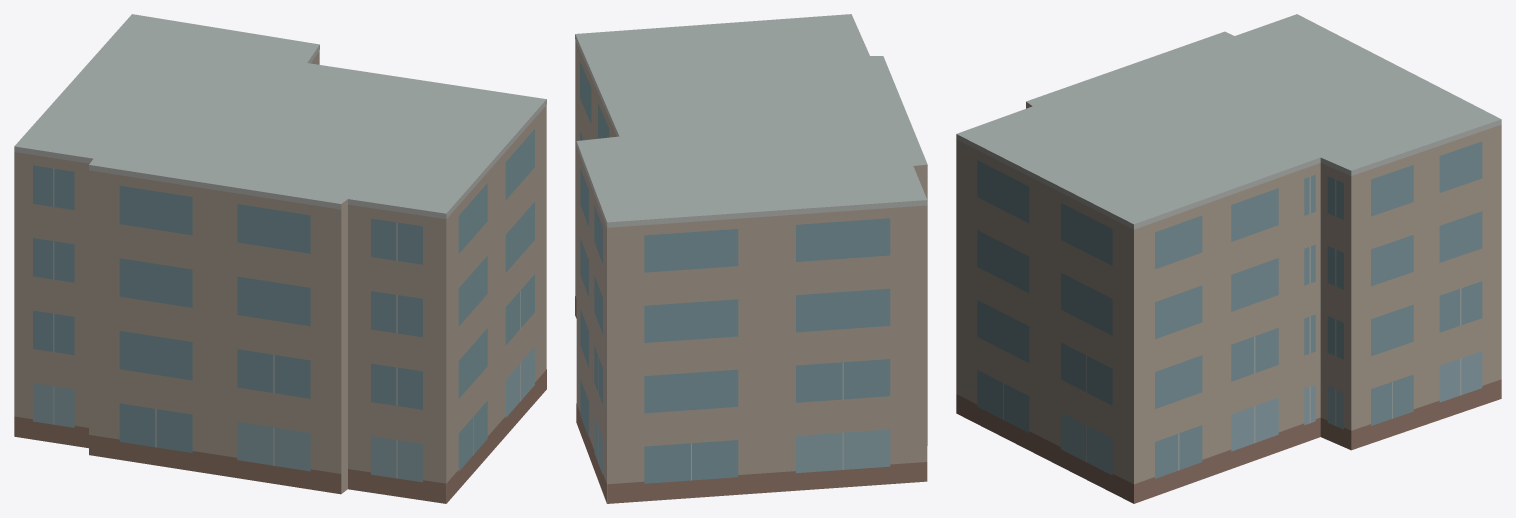
The model's file is survey-upis-32954213.glb.
3 renders of one model, left to right at view 1: azimuth 30°, elevation 25°; view 2: azimuth 150°, elevation 25°; view 3: azimuth 270°, elevation 25°, orthographic. The views are drawn at different scales.
Parts seen in each view (by area): view 1: survey-upis-32954213.tmp; view 2: survey-upis-32954213.tmp; view 3: survey-upis-32954213.tmp.
Boxes of the visible parts, x1=… form: survey-upis-32954213.tmp: x1=14, y1=14, x2=546, y2=503; survey-upis-32954213.tmp: x1=575, y1=14, x2=927, y2=503; survey-upis-32954213.tmp: x1=956, y1=14, x2=1501, y2=503.
Size of the model in its own units: 20.68 by 12.8 by 22.65.
